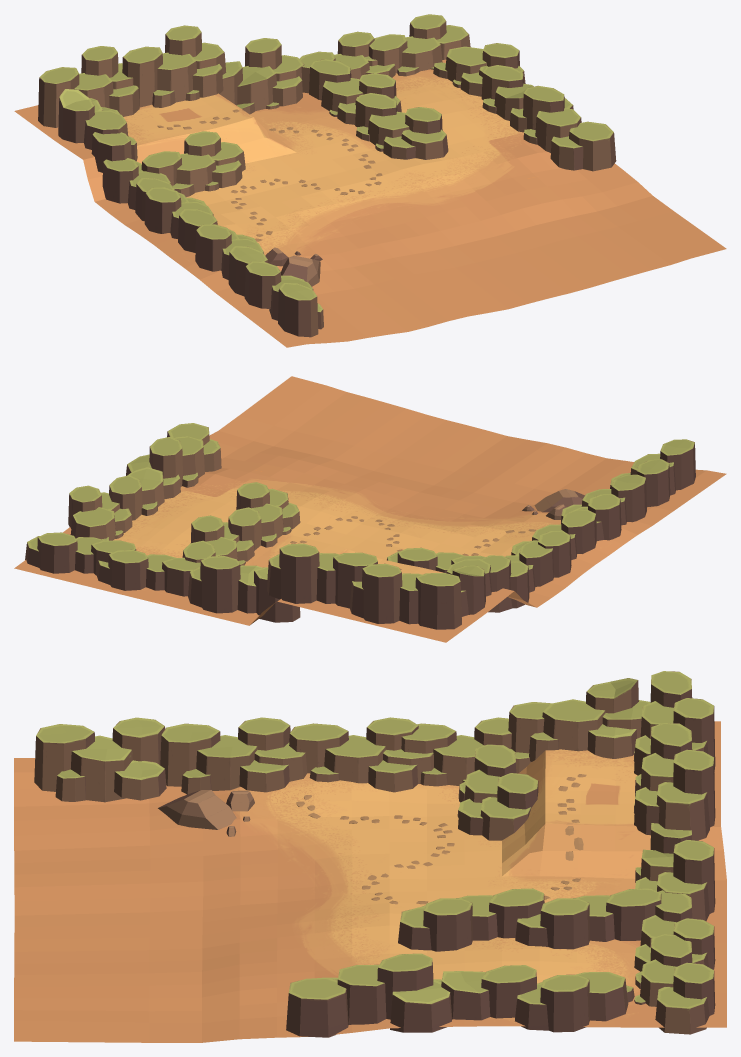
Rendered from terrain asset pantai.fbx.
The picture shows the model from 3 angles, top to bottom: view 1: azimuth 30°, elevation 25°; view 2: azimuth 150°, elevation 25°; view 3: azimuth 270°, elevation 25°; orthographic projection. The views are drawn at different scales.
Parts seen in each view (by area): view 1: terrain pantai; view 2: terrain pantai; view 3: terrain pantai.
Part boxes in pixels (box(x1,y1,x2,y2)): terrain pantai: box(14, 14, 726, 347); terrain pantai: box(14, 376, 726, 642); terrain pantai: box(14, 671, 726, 1042).
Size of the model in its own units: 8176 by 1652 by 8911.
